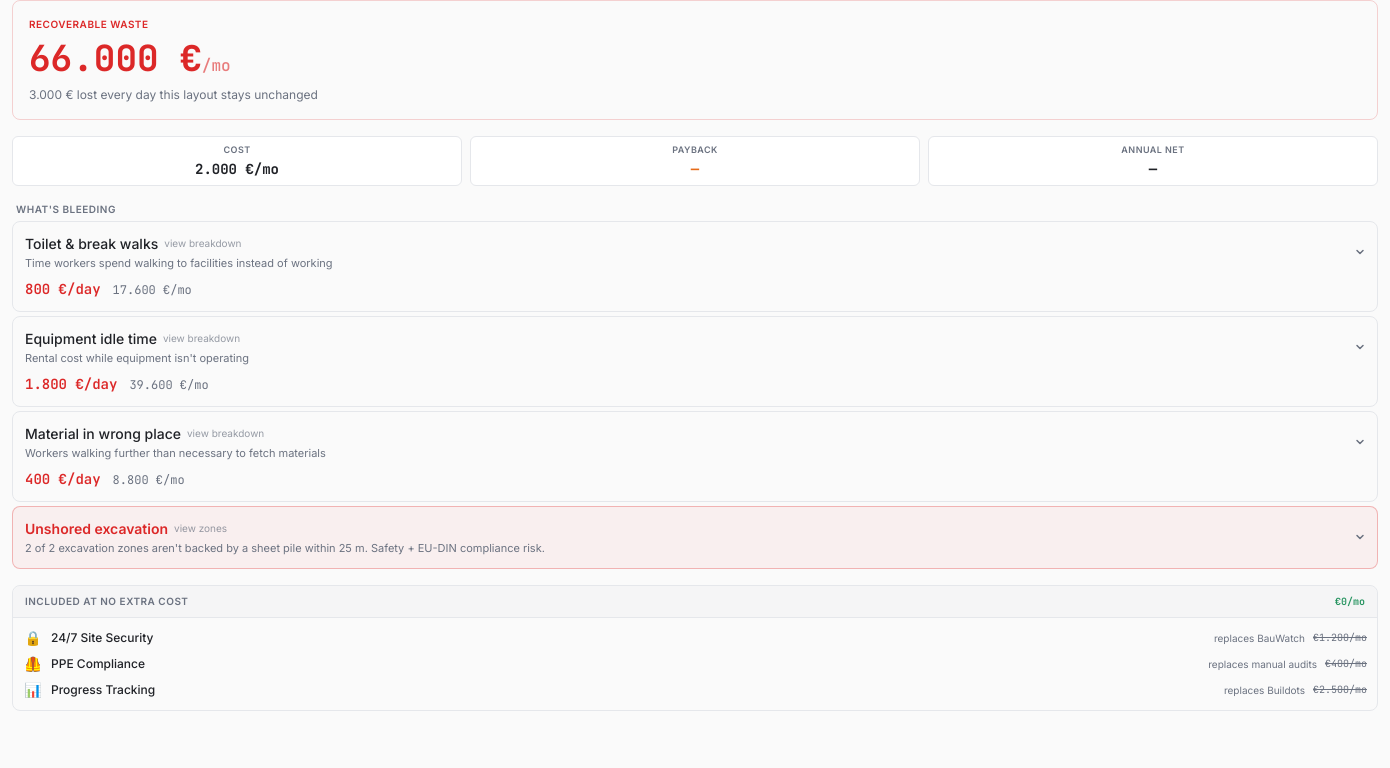
Test: WasteReport — Phase 5 shoring compliance row › expanding the row reveals the offending zone labels + distances
Click the text "Unshored excavation" at (96, 529), box [25,519,168,539]
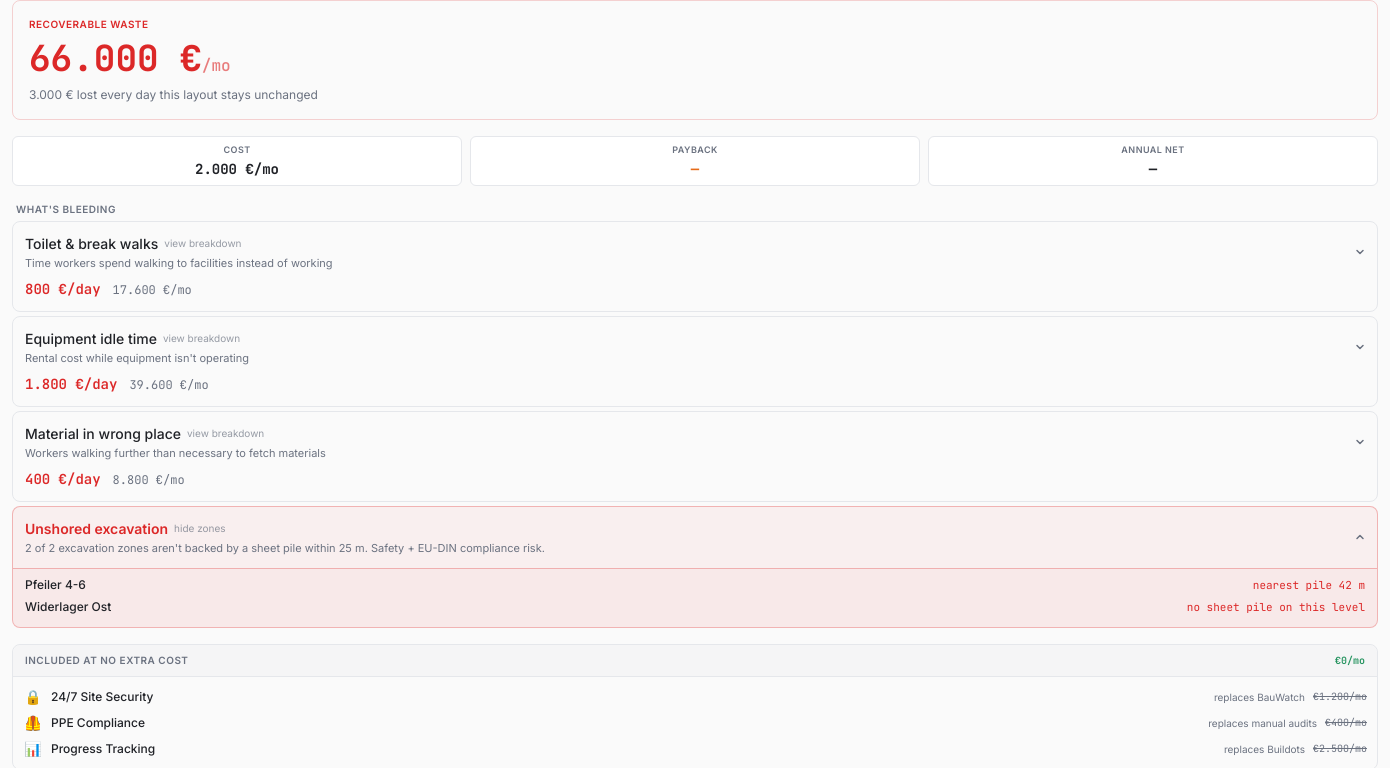
Check: the text "Pfeiler 4-6" is shown, box [25,577,86,593]
Check: the text "nearest pile 42 m" is shown, box [1253,577,1365,593]
Check: the text "Widerlager Ost" is shown, box [25,599,111,615]
